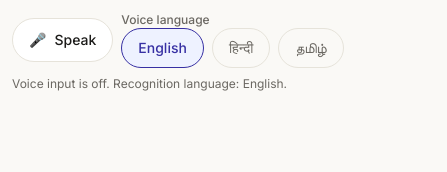
Test: VoiceInput (supported browser) › reports 'no speech detected' when recognition ends without a result
The image size is (447, 172).
Click the button with aria-label "start voice input".
click(63, 40)  # box [12, 18, 113, 62]
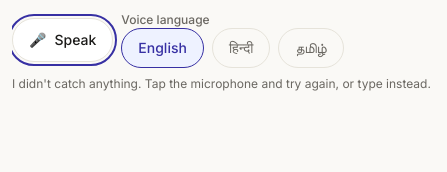
Expected: the text "didn.t catch anything" is shown, [12, 76, 431, 91]
